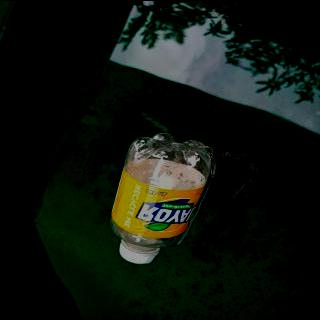bottle: (108, 130, 218, 266)
